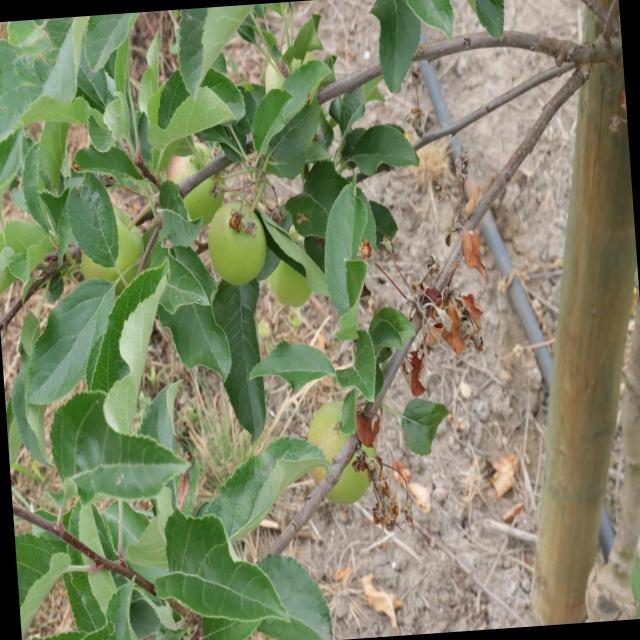-FireBlight-: (382, 250, 492, 393), (333, 390, 403, 536)
